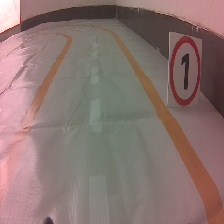limit: (166, 29, 203, 112)
